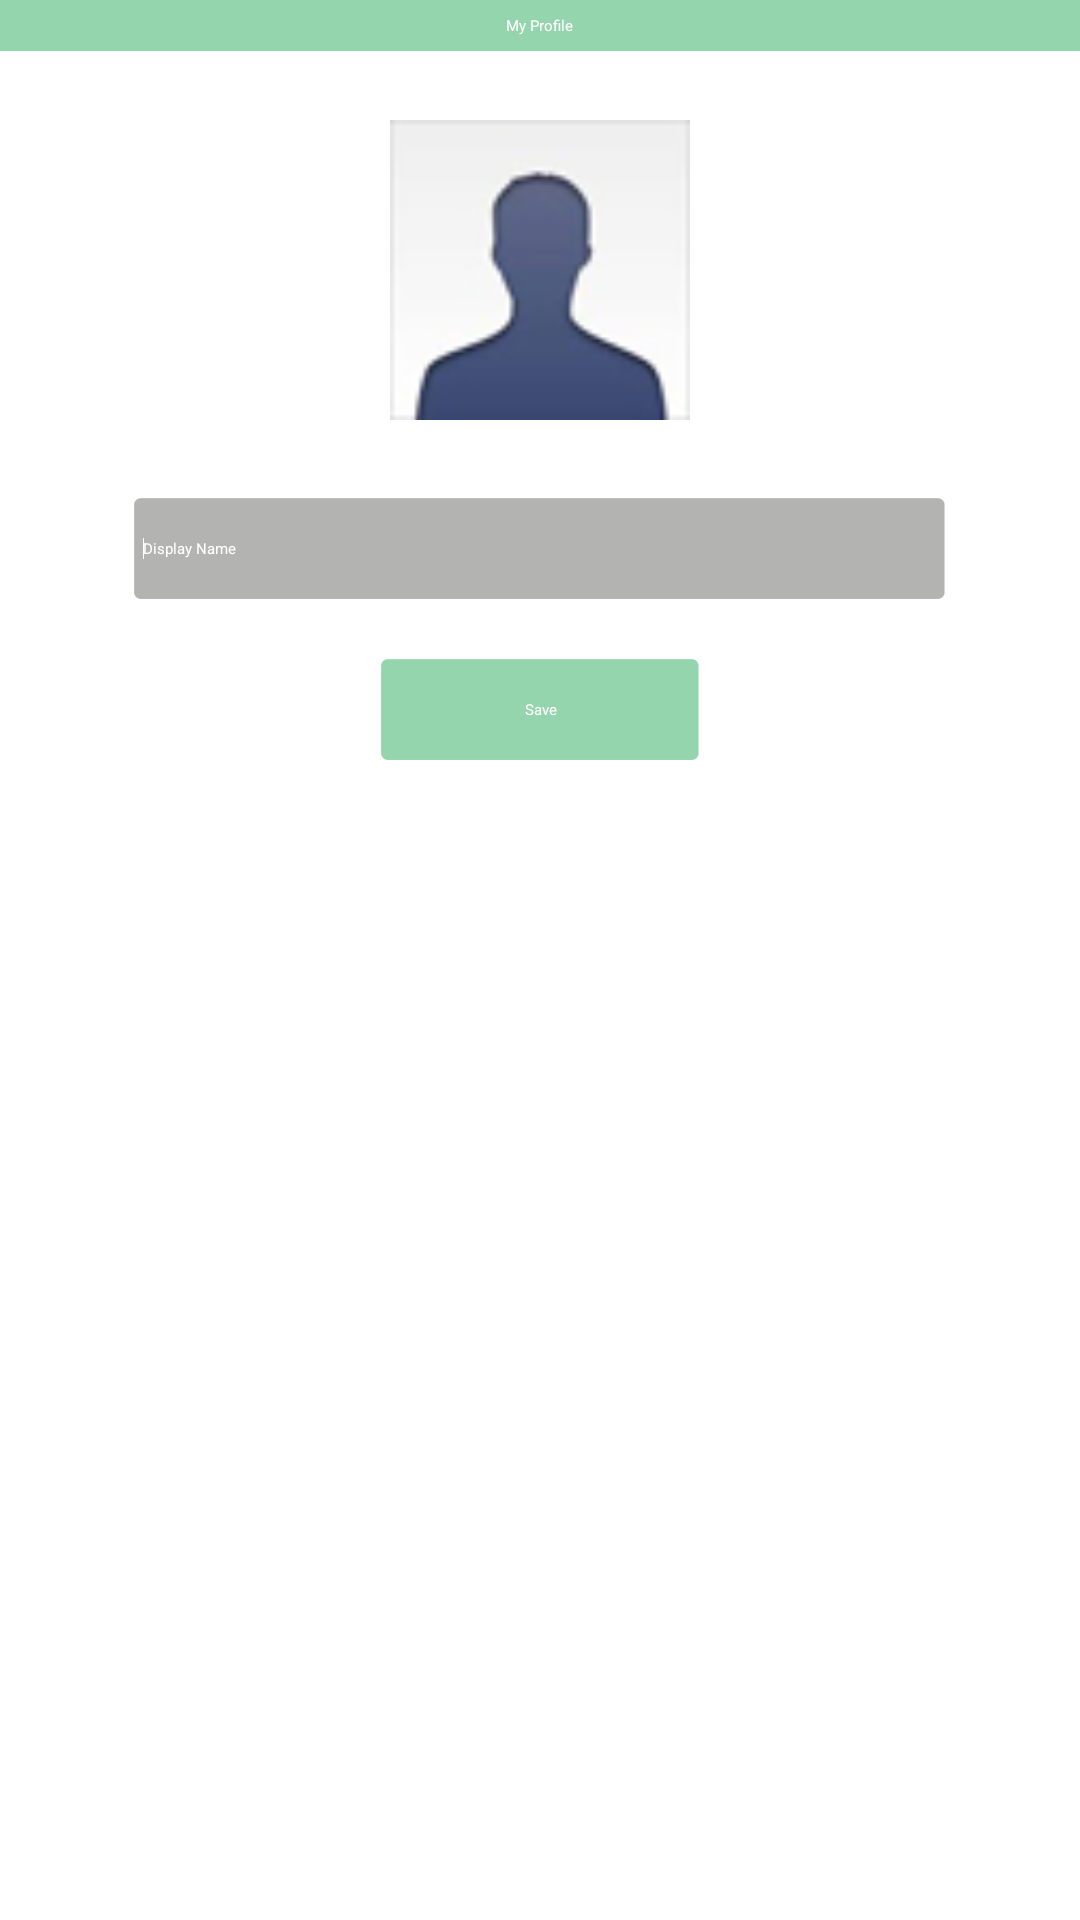

Icon click points for this 1080*1920 phone screenshot, format (x,y):
user imaes: (540,270)
